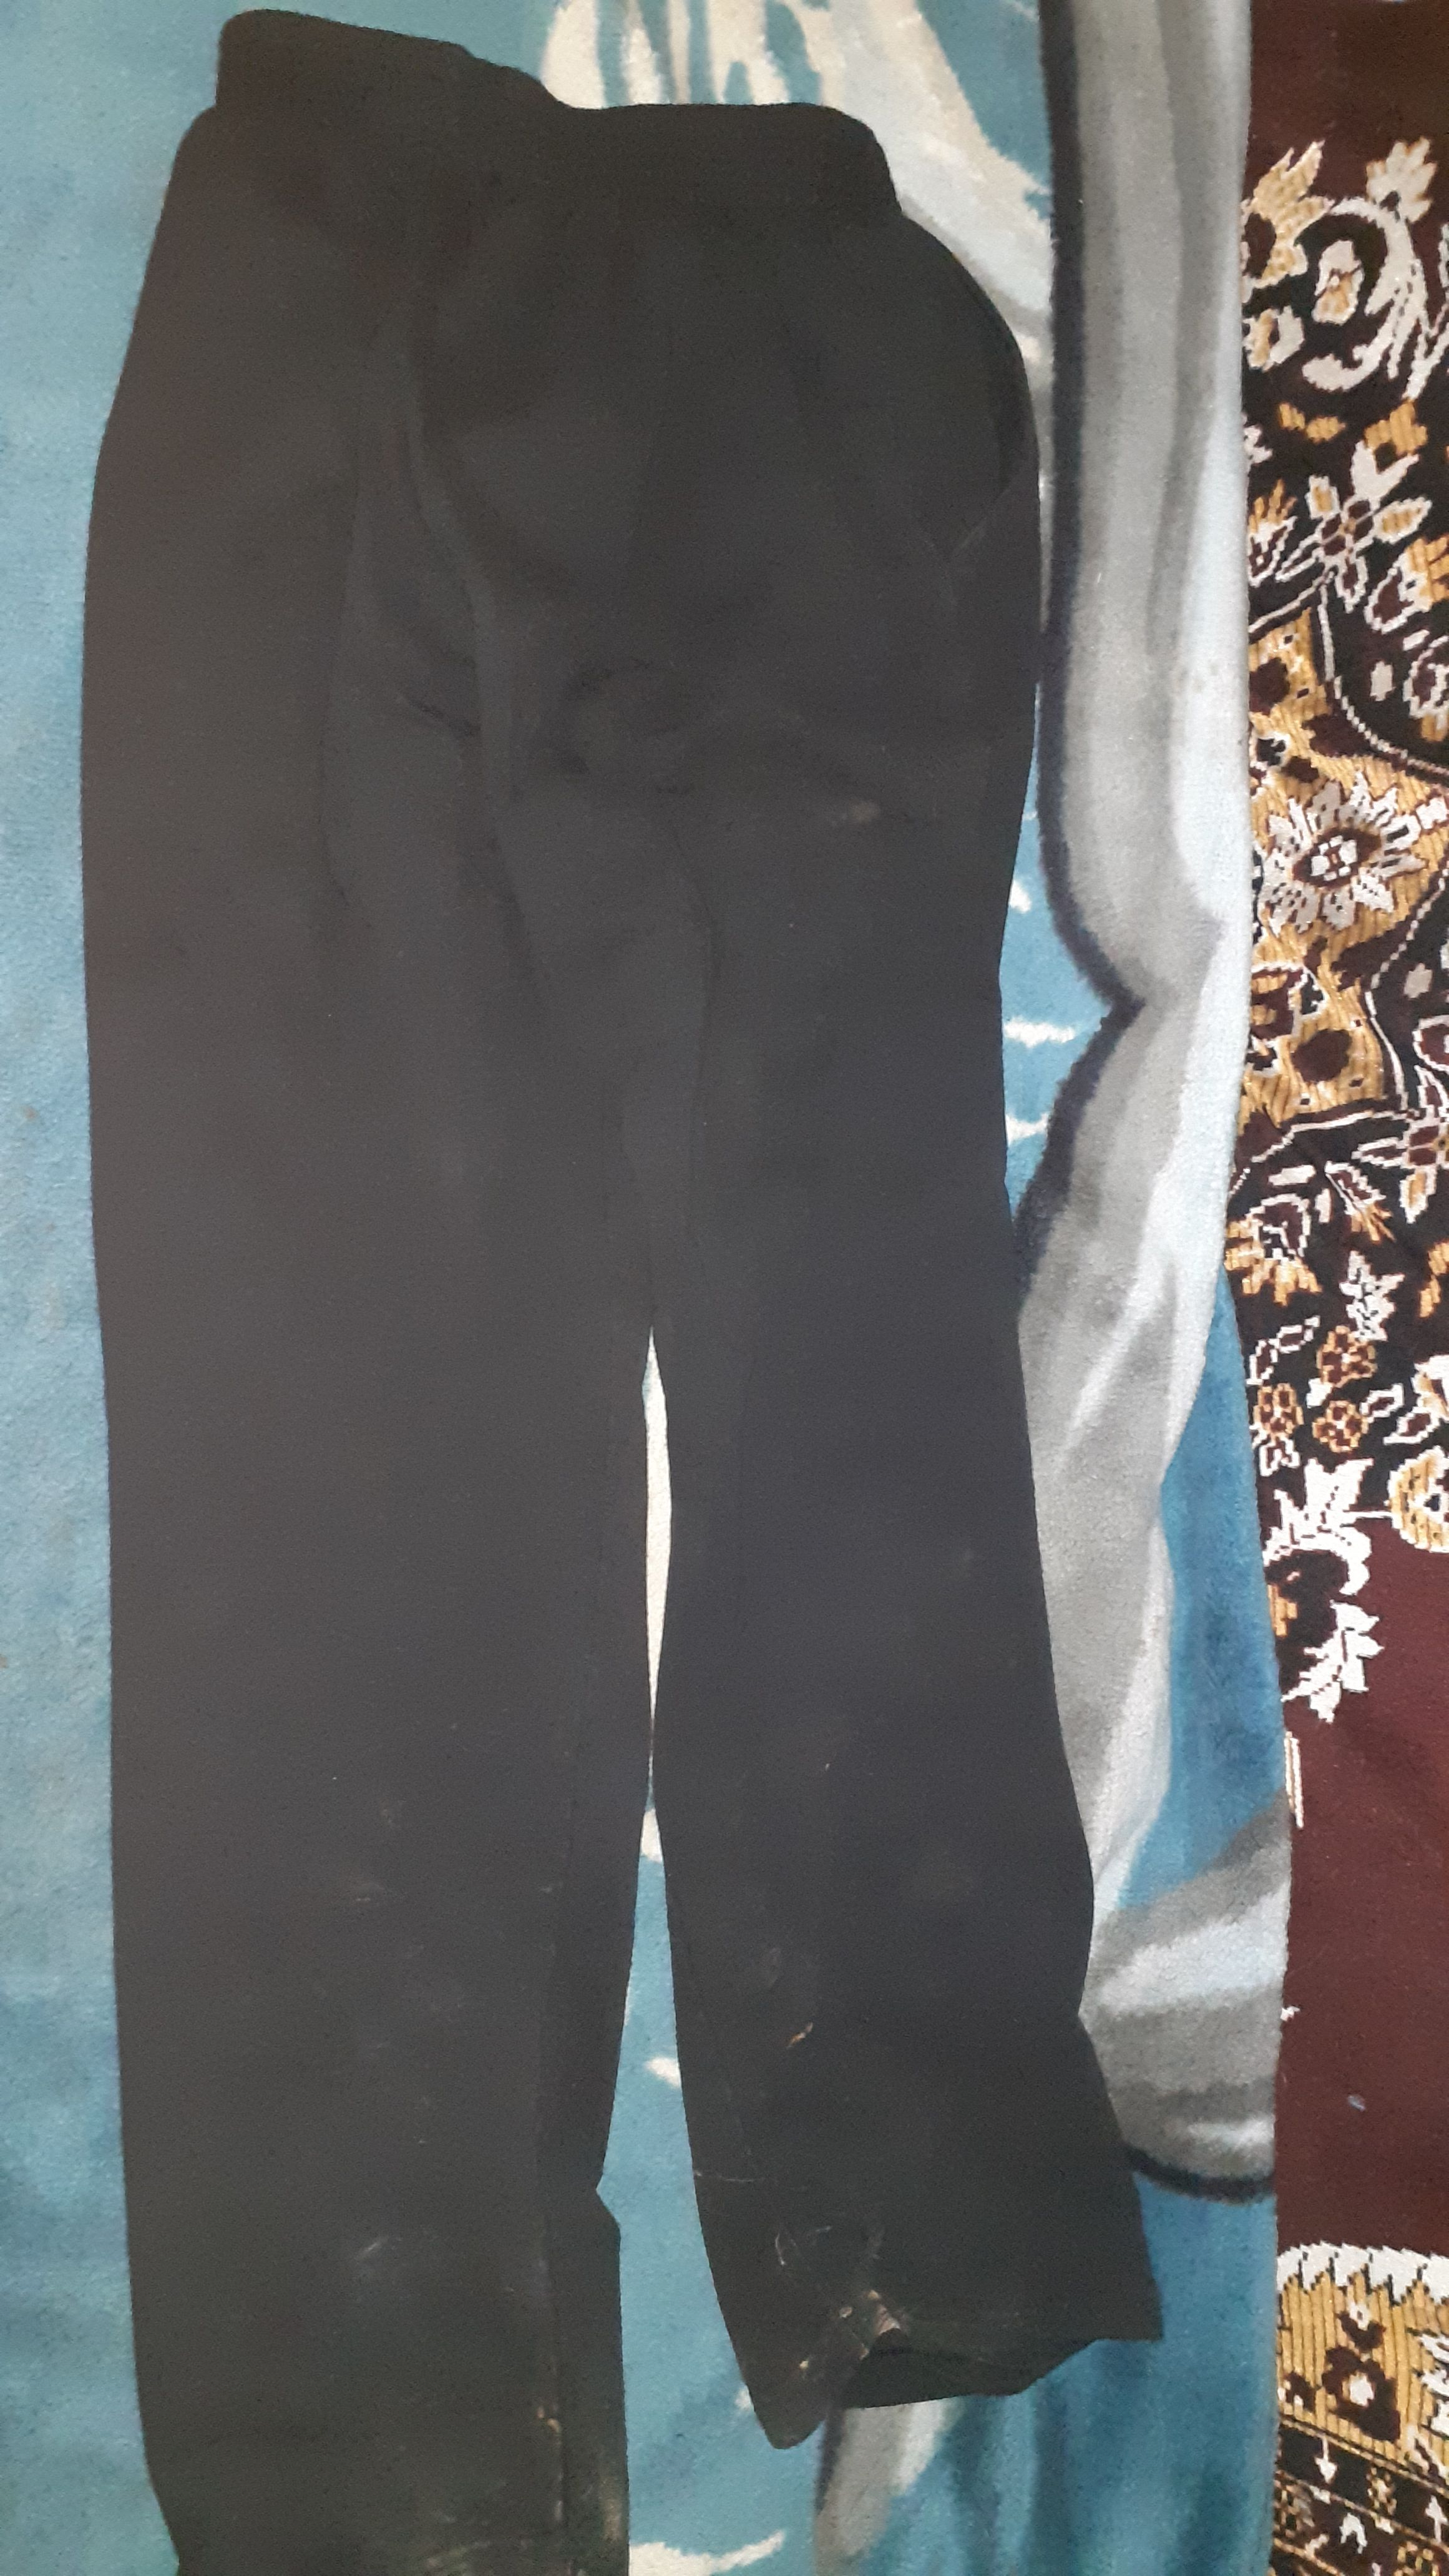clothes: (76, 5, 1168, 2507)
